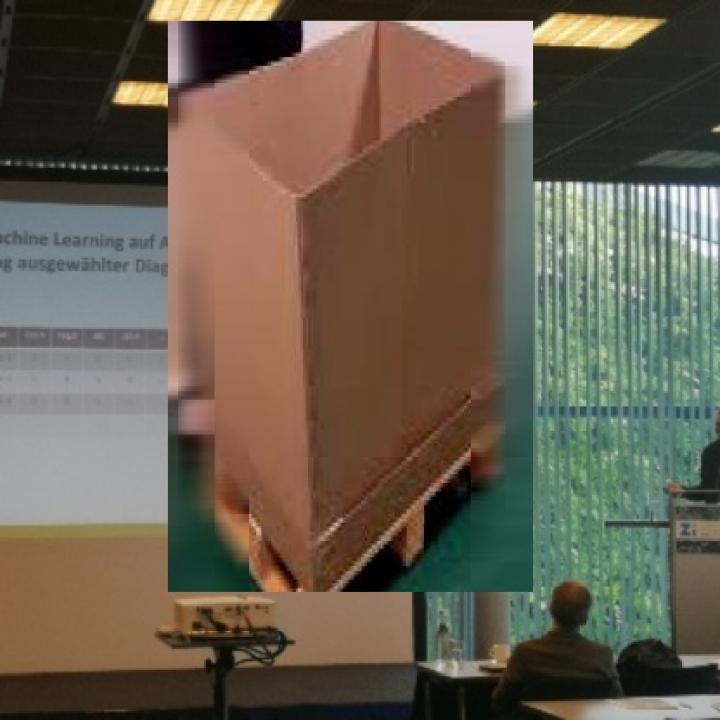package: (180, 18, 505, 590)
